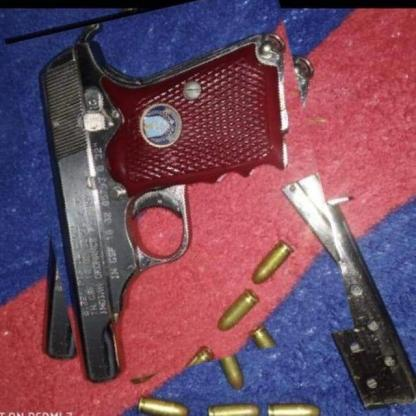handgun: (22, 0, 336, 376)
